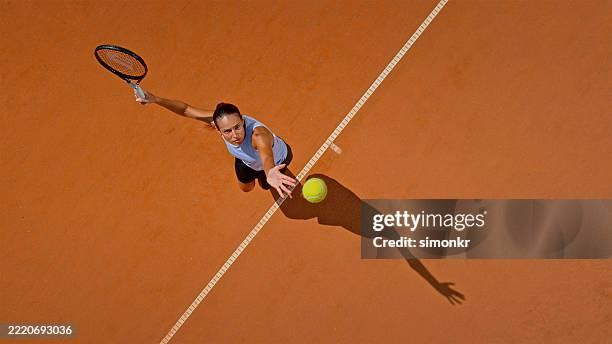ball_tennis: (302, 178, 328, 203)
